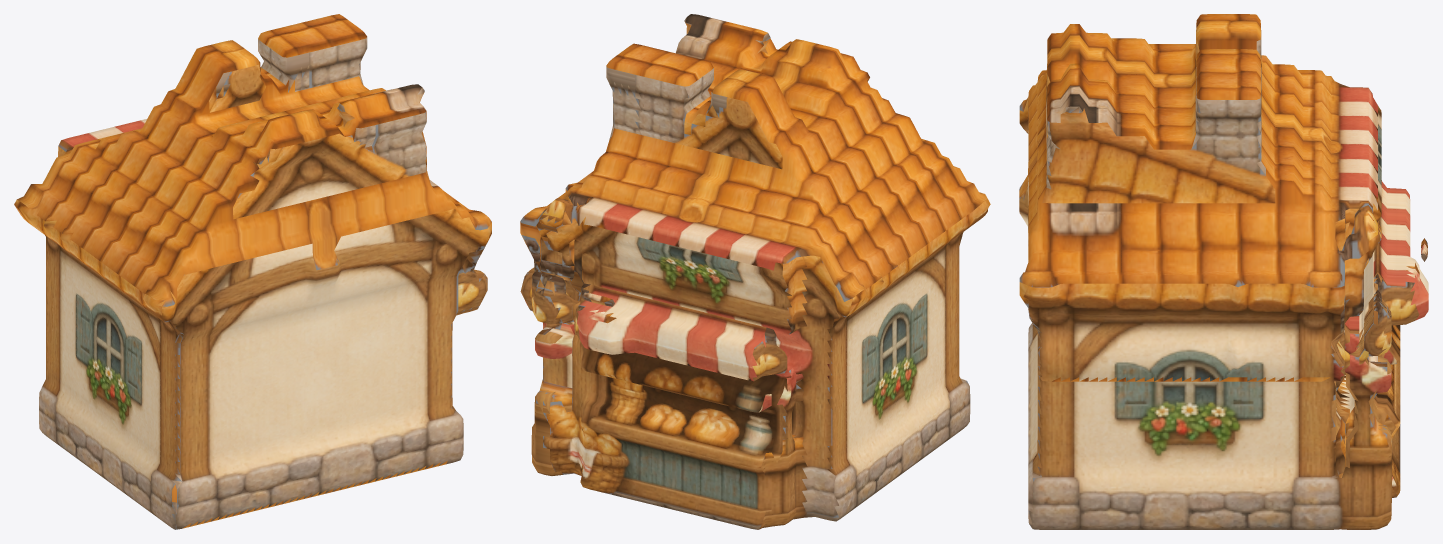
File: bakery.glb
3 renders of one model, left to right at view 1: azimuth 30°, elevation 25°; view 2: azimuth 150°, elevation 25°; view 3: azimuth 270°, elevation 25°, orthographic. The views are drawn at different scales.
Bounding box in the file's own units: 0.939 × 1 × 0.8691.
Materials: 1 (1 with a texture image).
